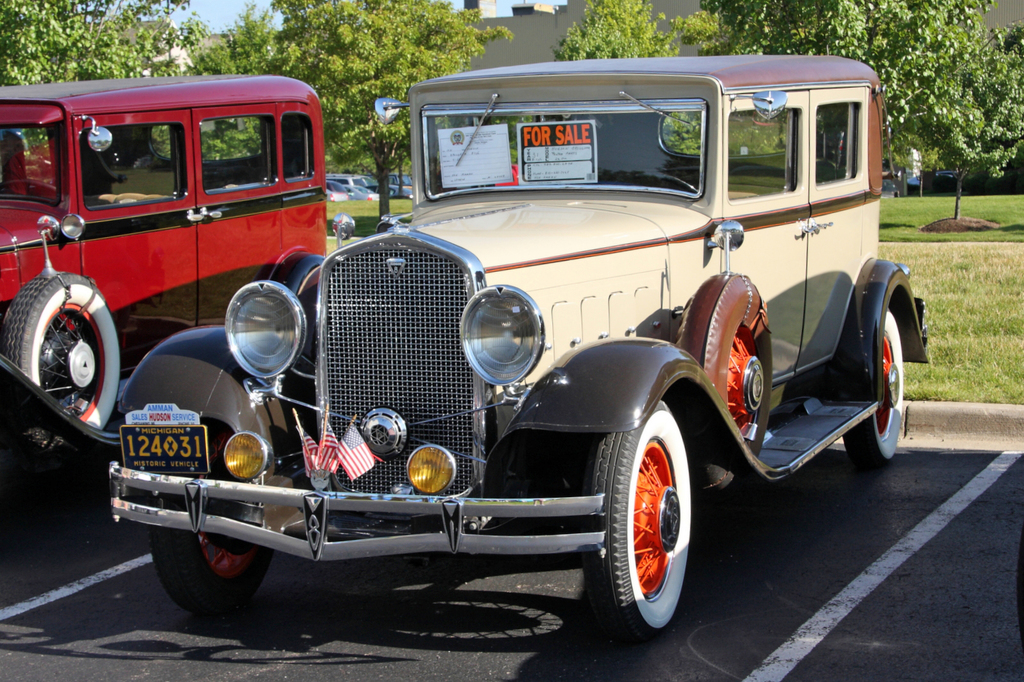Car: (110, 46, 936, 635), (0, 72, 337, 519), (375, 175, 412, 198), (346, 180, 377, 198), (325, 180, 346, 204), (341, 169, 368, 186)
